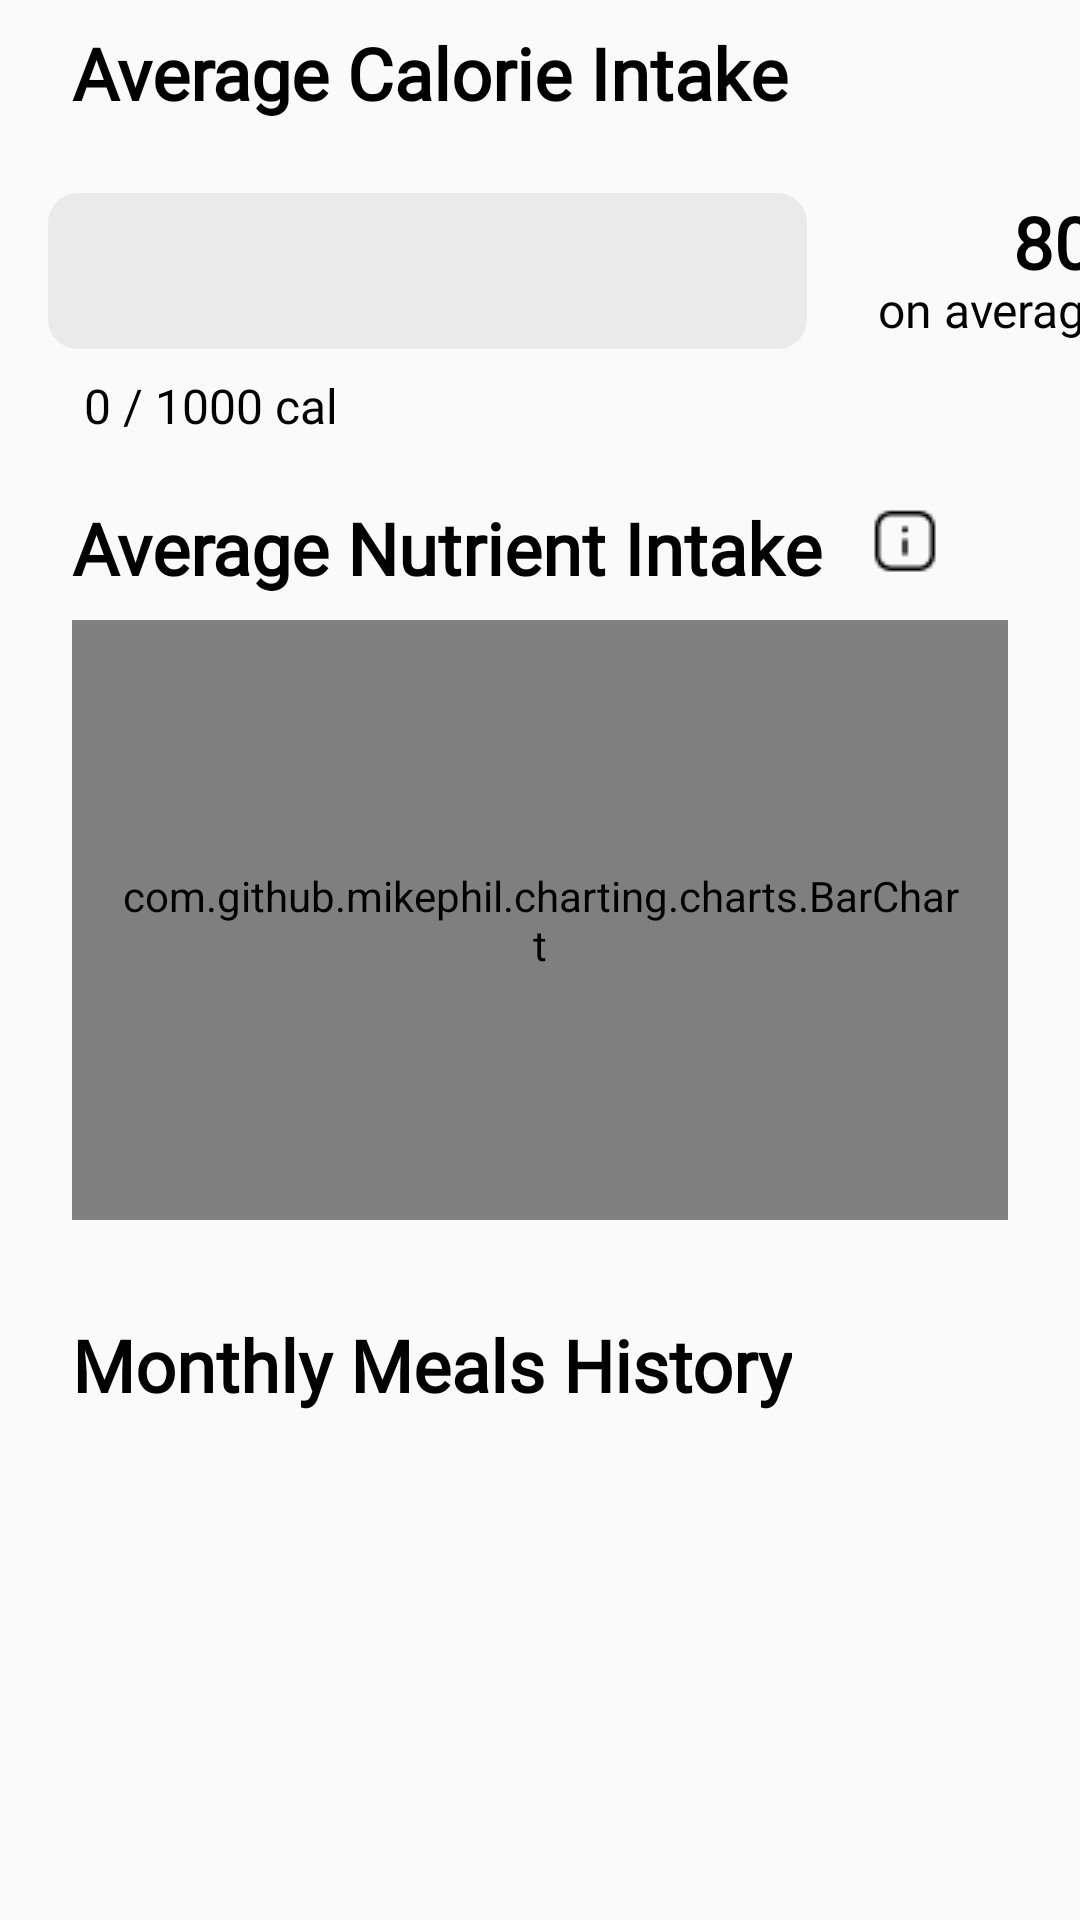

Where to tap for icons on this 1080w x 1920h app screen, as point (x, y):
Information: point (905, 541)
